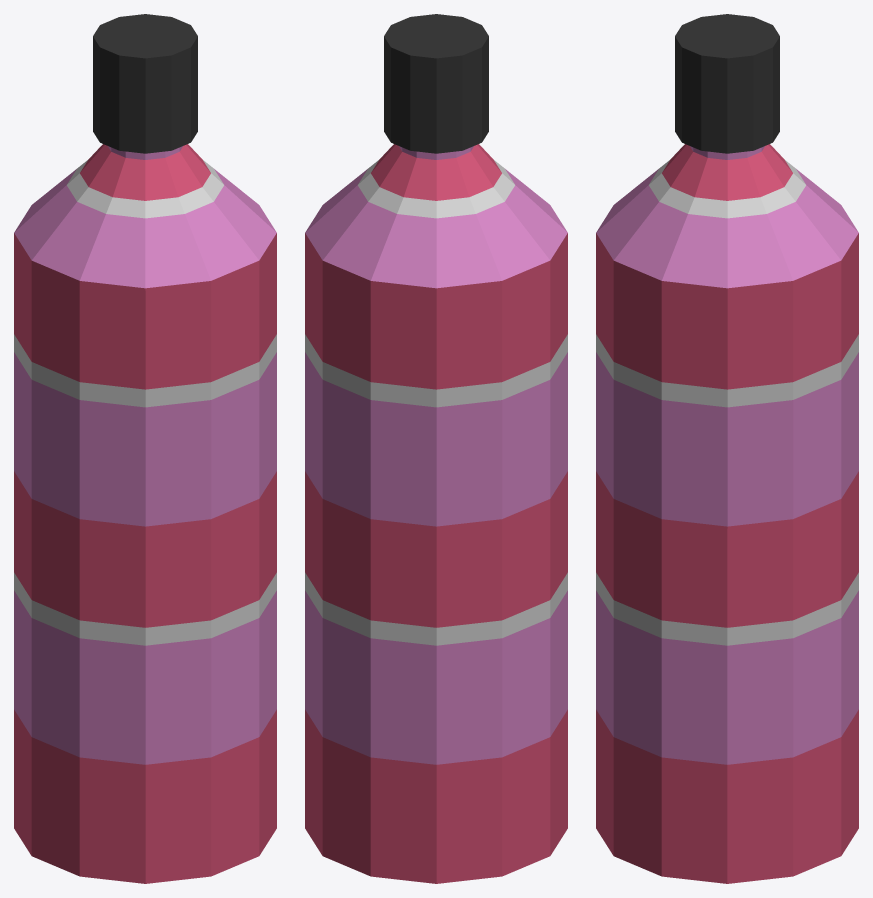
File: Hair Product 1.fbx
3 renders of one model, left to right at view 1: azimuth 30°, elevation 25°; view 2: azimuth 150°, elevation 25°; view 3: azimuth 270°, elevation 25°, orthographic.
Parts seen in each view (by area): view 1: Hair Product 1, Lid; view 2: Hair Product 1, Lid; view 3: Hair Product 1, Lid.
Part boxes in pixels (<box>): Hair Product 1: <box>14,144,276,883</box>; Lid: <box>93,14,197,153</box>; Hair Product 1: <box>305,144,567,883</box>; Lid: <box>384,14,488,153</box>; Hair Product 1: <box>596,144,858,883</box>; Lid: <box>675,14,779,153</box>.
Size of the model in its own units: 80 by 266 by 80.
